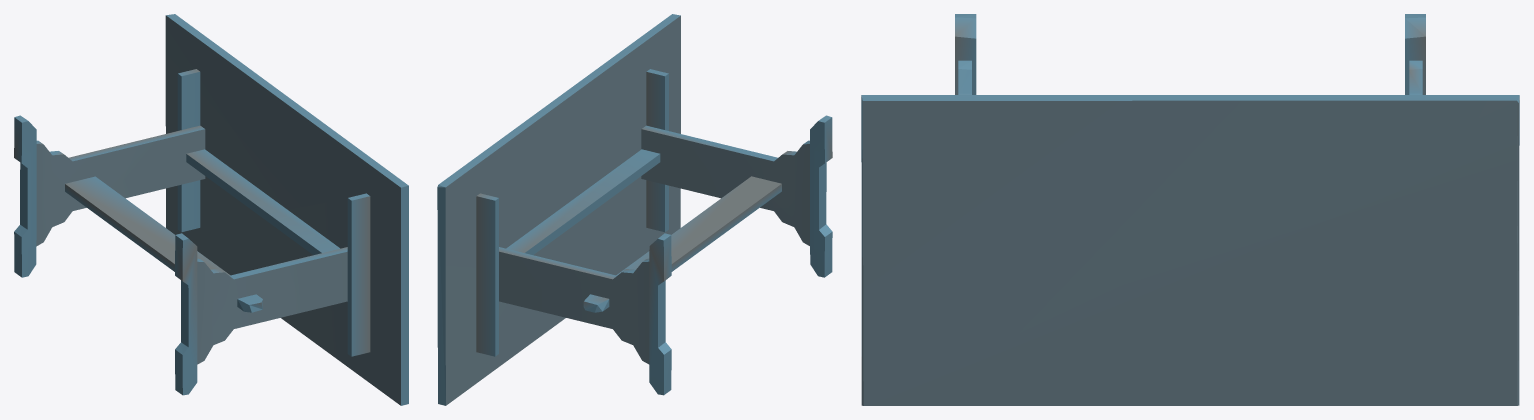
Rendered from table_overturned.glb.
The picture shows the model from 3 angles, left to right: view 1: azimuth 30°, elevation 25°; view 2: azimuth 150°, elevation 25°; view 3: azimuth 270°, elevation 25°; orthographic projection. The views are drawn at different scales.
Visible parts, largest first — view 1: table_overturned; view 2: table_overturned; view 3: table_overturned.
Boxes of the visible parts, x1,y1,x2,y2 form: table_overturned: (14,14,408,405); table_overturned: (437,14,832,405); table_overturned: (861,14,1519,405).
Bounding box in the file's own units: 0.76 × 0.82 × 1.6.
